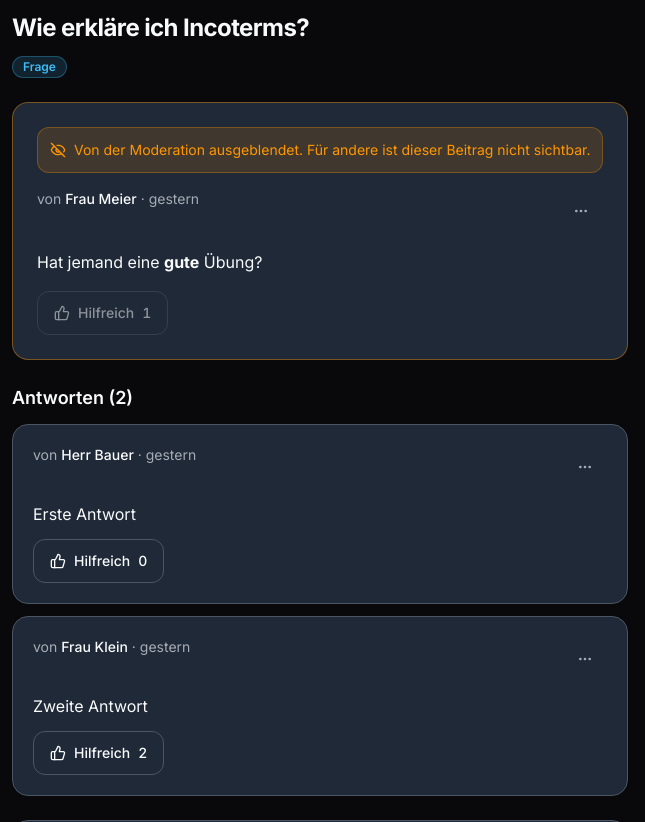
it: Beitragsseite › zeigt Admins das Menü mit „Ausblenden“ und dem Hinweisband bei Ausgeblendetem
Check: the text "Erste Antwort" is shown, box [33, 504, 136, 524]
Check: the text "Von der Moderation ausgeblendet. Für andere ist dieser Beitrag nicht sichtbar." is shown, box [37, 127, 604, 173]
Press the mouse on the button named "Weitere Aktionen: Beitrag": (582, 211) [560, 189, 604, 233]
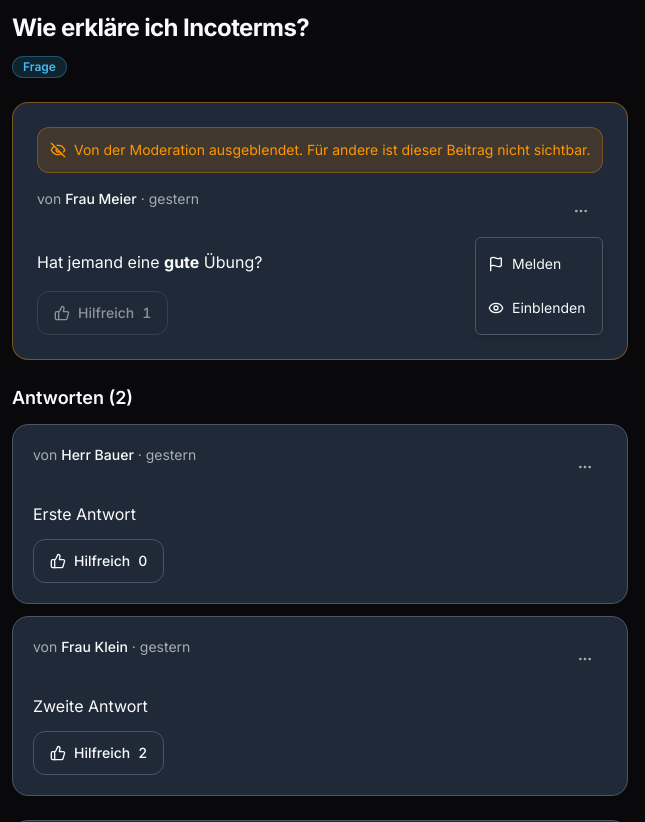
Check: the menu item "Einblenden" is shown, box [488, 299, 586, 316]
